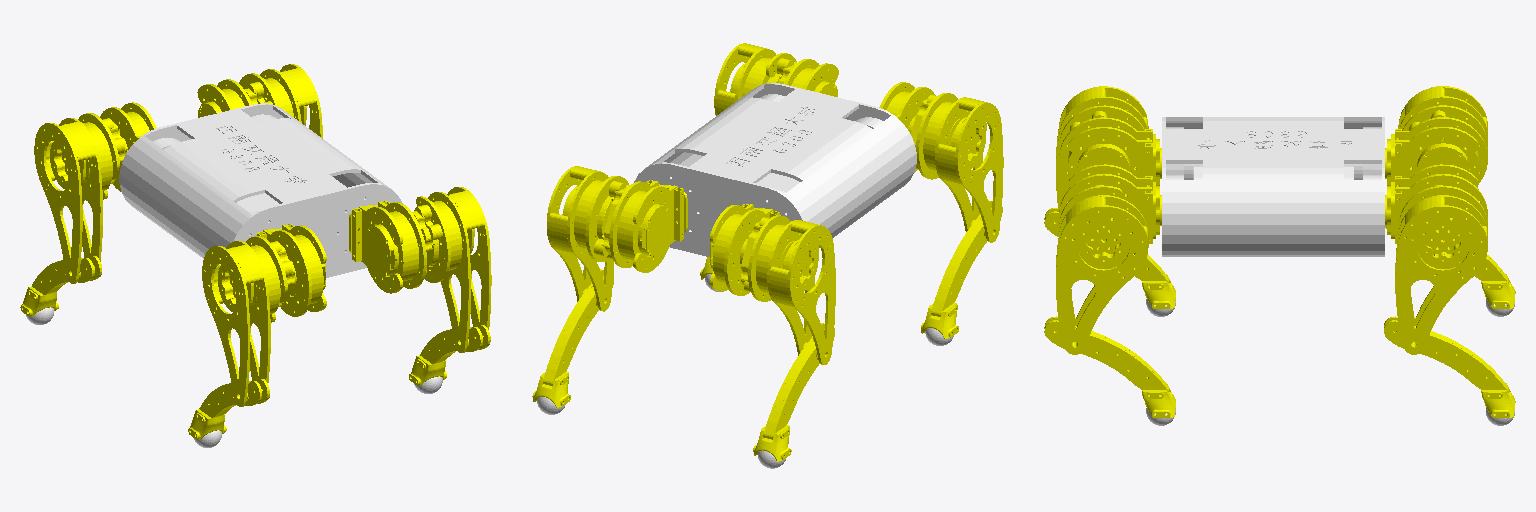
The robot description file, URDF, robot "g308_test3":
<?xml version="1.0" encoding="utf-8"?>
<!-- This URDF was automatically created by SolidWorks to URDF Exporter! Originally created by [author] ([email redacted]) 
     Commit Version: 1.6.0-4-g7f85cfe  Build Version: 1.6.7995.38578
     For more information, please see http://wiki.ros.org/sw_urdf_exporter -->
<robot
  name="g308_test3">
  <link
    name="base">
    <inertial>
      <origin
        xyz="-0.0461979664524284 -1.17681768195707E-05 0.0105492310143218"
        rpy="0 0 0" />
      <mass
        value="1.95581210125627" />
      <inertia
        ixx="0.0147778202660151"
        ixy="-1.05162781463542E-07"
        ixz="-1.09332218398292E-06"
        iyy="0.0125847623047929"
        iyz="1.48283341202769E-06"
        izz="0.0210875822494919" />
    </inertial>
    <visual>
      <origin
        xyz="0 0 0"
        rpy="0 0 0" />
      <geometry>
        <mesh
          filename="package://g308_test3/meshes/base.STL" />
      </geometry>
      <material
        name="">
        <color
          rgba="1 1 1 1" />
      </material>
    </visual>
    <collision>
      <origin
        xyz="0 0 0"
        rpy="0 0 0" />
      <geometry>
        <mesh
          filename="package://g308_test3/meshes/base.STL" />
      </geometry>
    </collision>
  </link>
  <link
    name="FL_hip">
    <inertial>
      <origin
        xyz="0.000645338589339253 0.000571806374731587 0.0692312452428767"
        rpy="0 0 0" />
      <mass
        value="0.318232651145697" />
      <inertia
        ixx="0.000371905213951895"
        ixy="8.54023233900234E-05"
        ixz="-2.30943444769928E-08"
        iyy="0.000273313681130012"
        iyz="1.65092610589608E-08"
        izz="0.000231734319828521" />
    </inertial>
    <visual>
      <origin
        xyz="0 0 0"
        rpy="0 0 0" />
      <geometry>
        <mesh
          filename="package://g308_test3/meshes/FL_hip.STL" />
      </geometry>
      <material
        name="">
        <color
          rgba="1 1 0 1" />
      </material>
    </visual>
    <collision>
      <origin
        xyz="0 0 0"
        rpy="0 0 0" />
      <geometry>
        <mesh
          filename="package://g308_test3/meshes/FL_hip.STL" />
      </geometry>
    </collision>
  </link>
  <joint
    name="FL_hip_joint"
    type="continuous">
    <origin
      xyz="-0.121206585889125 0.1475 0.012200615375217"
      rpy="1.5707963267949 0.523598775598297 -3.14159265358979" />
    <parent
      link="base" />
    <child
      link="FL_hip" />
    <axis
      xyz="0 0 1" />
    <limit
      lower="-3.14"
      upper="3.14"
      effort="20"
      velocity="10" />
  </joint>
  <link
    name="FL_thigh">
    <inertial>
      <origin
        xyz="-0.0122643937169565 -0.00575009686516084 -0.0438255043724123"
        rpy="0 0 0" />
      <mass
        value="0.50615450098718" />
      <inertia
        ixx="0.000325118667045125"
        ixy="-8.90254538876752E-05"
        ixz="-4.23242336848074E-09"
        iyy="0.000503708941101464"
        iyz="1.23318635161356E-08"
        izz="0.00080129336816092" />
    </inertial>
    <visual>
      <origin
        xyz="0 0 0"
        rpy="0 0 0" />
      <geometry>
        <mesh
          filename="package://g308_test3/meshes/FL_thigh.STL" />
      </geometry>
      <material
        name="">
        <color
          rgba="1 1 0 1" />
      </material>
    </visual>
    <collision>
      <origin
        xyz="0 0 0"
        rpy="0 0 0" />
      <geometry>
        <mesh
          filename="package://g308_test3/meshes/FL_thigh.STL" />
      </geometry>
    </collision>
  </link>
  <joint
    name="FL_thigh_joint"
    type="continuous">
    <origin
      xyz="0.0259057621135404 0.0151299038105593 0.0802000000000014"
      rpy="-1.5707963267949 -0.654498469497903 2.09439510239319" />
    <parent
      link="FL_hip" />
    <child
      link="FL_thigh" />
    <axis
      xyz="0 0 1" />
    <limit
      lower="-3.14"
      upper="3.14"
      effort="20"
      velocity="10" />
  </joint>
  <link
    name="FL_calf">
    <inertial>
      <origin
        xyz="0.0633313265646676 -0.0400200837453653 0.0140342754513096"
        rpy="0 0 0" />
      <mass
        value="0.101165794083911" />
      <inertia
        ixx="6.03690927040475E-05"
        ixy="7.94426080977234E-05"
        ixz="1.99930744368977E-10"
        iyy="0.000141463572684114"
        iyz="-1.30568603445521E-10"
        izz="0.000194608017998216" />
    </inertial>
    <visual>
      <origin
        xyz="0 0 0"
        rpy="0 0 0" />
      <geometry>
        <mesh
          filename="package://g308_test3/meshes/FL_calf.STL" />
      </geometry>
      <material
        name="">
        <color
          rgba="1 1 0 1" />
      </material>
    </visual>
    <collision>
      <origin
        xyz="0 0 0"
        rpy="0 0 0" />
      <geometry>
        <mesh
          filename="package://g308_test3/meshes/FL_calf.STL" />
      </geometry>
    </collision>
  </link>
  <joint
    name="FL_calf_joint"
    type="continuous">
    <origin
      xyz="-0.138581929876684 -0.0574025148547549 -0.0820000000000014"
      rpy="0 0 -0.916297857296994" />
    <parent
      link="FL_thigh" />
    <child
      link="FL_calf" />
    <axis
      xyz="0 0 1" />
    <limit
      lower="-3.14"
      upper="3.14"
      effort="20"
      velocity="10" />
  </joint>
  <link
    name="FL_foot">
    <inertial>
      <origin
        xyz="3.97575067312417E-09 -0.0001584054612353 1.23199644930239E-09"
        rpy="0 0 0" />
      <mass
        value="0.0324776231528866" />
      <inertia
        ixx="5.27515525323503E-06"
        ixy="1.11411299511892E-13"
        ixz="2.27169126250626E-12"
        iyy="5.19366816295094E-06"
        iyz="-1.25235730408225E-12"
        izz="5.22489160656527E-06" />
    </inertial>
    <visual>
      <origin
        xyz="0 0 0"
        rpy="0 0 0" />
      <geometry>
        <mesh
          filename="package://g308_test3/meshes/FL_foot.STL" />
      </geometry>
      <material
        name="">
        <color
          rgba="1 1 1 1" />
      </material>
    </visual>
    <collision>
      <origin
        xyz="0 0 0"
        rpy="0 0 0" />
      <geometry>
        <mesh
          filename="package://g308_test3/meshes/FL_foot.STL" />
      </geometry>
    </collision>
  </link>
  <joint
    name="FL_foot_joint"
    type="fixed">
    <origin
      xyz="0.115518487694803 -0.106314214351308 0.0141499999999999"
      rpy="-1.48600618207356 -1.56891663625823 1.5707963267944" />
    <parent
      link="FL_calf" />
    <child
      link="FL_foot" />
    <axis
      xyz="0 0 0" />
  </joint>
  <link
    name="RL_hip">
    <inertial>
      <origin
        xyz="0.000645338582855925 0.000571806385955699 0.0692312452422405"
        rpy="0 0 0" />
      <mass
        value="0.318232651145697" />
      <inertia
        ixx="0.000371905213951895"
        ixy="8.54023233900234E-05"
        ixz="-2.3094344476699E-08"
        iyy="0.000273313681130012"
        iyz="1.65092610591062E-08"
        izz="0.000231734319828521" />
    </inertial>
    <visual>
      <origin
        xyz="0 0 0"
        rpy="0 0 0" />
      <geometry>
        <mesh
          filename="package://g308_test3/meshes/RL_hip.STL" />
      </geometry>
      <material
        name="">
        <color
          rgba="1 1 0 1" />
      </material>
    </visual>
    <collision>
      <origin
        xyz="0 0 0"
        rpy="0 0 0" />
      <geometry>
        <mesh
          filename="package://g308_test3/meshes/RL_hip.STL" />
      </geometry>
    </collision>
  </link>
  <joint
    name="RL_hip_joint"
    type="continuous">
    <origin
      xyz="-0.121206585889128 -0.1475 0.012200615375218"
      rpy="-1.5707963267949 -0.523598775598297 3.14159265358979" />
    <parent
      link="base" />
    <child
      link="RL_hip" />
    <axis
      xyz="0 0 -1" />
    <limit
      lower="-3.14"
      upper="3.14"
      effort="20"
      velocity="10" />
  </joint>
  <link
    name="RL_thigh">
    <inertial>
      <origin
        xyz="-0.0122643929441131 -0.00575009671002186 -0.0438255043724107"
        rpy="0 0 0" />
      <mass
        value="0.50615450098718" />
      <inertia
        ixx="0.000325118667056995"
        ixy="-8.9025453883413E-05"
        ixz="-4.23239831283032E-09"
        iyy="0.000503708941089595"
        iyz="1.23318862716324E-08"
        izz="0.000801293368160921" />
    </inertial>
    <visual>
      <origin
        xyz="0 0 0"
        rpy="0 0 0" />
      <geometry>
        <mesh
          filename="package://g308_test3/meshes/RL_thigh.STL" />
      </geometry>
      <material
        name="">
        <color
          rgba="1 1 0 1" />
      </material>
    </visual>
    <collision>
      <origin
        xyz="0 0 0"
        rpy="0 0 0" />
      <geometry>
        <mesh
          filename="package://g308_test3/meshes/RL_thigh.STL" />
      </geometry>
    </collision>
  </link>
  <joint
    name="RL_thigh_joint"
    type="continuous">
    <origin
      xyz="0.0259057621135434 0.0151299038105513 0.0802000000000017"
      rpy="1.57079632679489 0.654498469497904 -1.0471975511966" />
    <parent
      link="RL_hip" />
    <child
      link="RL_thigh" />
    <axis
      xyz="0 0 1" />
    <limit
      lower="-3.14"
      upper="3.14"
      effort="20"
      velocity="10" />
  </joint>
  <link
    name="RL_calf">
    <inertial>
      <origin
        xyz="0.0633313265654134 -0.040020083743763 0.0130342754513093"
        rpy="0 0 0" />
      <mass
        value="0.101165794083911" />
      <inertia
        ixx="6.03690927040389E-05"
        ixy="7.94426080977188E-05"
        ixz="1.99930744155499E-10"
        iyy="0.000141463572684123"
        iyz="-1.30568603301694E-10"
        izz="0.000194608017998216" />
    </inertial>
    <visual>
      <origin
        xyz="0 0 0"
        rpy="0 0 0" />
      <geometry>
        <mesh
          filename="package://g308_test3/meshes/RL_calf.STL" />
      </geometry>
      <material
        name="">
        <color
          rgba="1 1 0 1" />
      </material>
    </visual>
    <collision>
      <origin
        xyz="0 0 0"
        rpy="0 0 0" />
      <geometry>
        <mesh
          filename="package://g308_test3/meshes/RL_calf.STL" />
      </geometry>
    </collision>
  </link>
  <joint
    name="RL_calf_joint"
    type="continuous">
    <origin
      xyz="-0.138581929876707 -0.0574025148547746 -0.0810000000000004"
      rpy="0 0 -0.916297857296993" />
    <parent
      link="RL_thigh" />
    <child
      link="RL_calf" />
    <axis
      xyz="0 0 -1" />
    <limit
      lower="-3.14"
      upper="3.14"
      effort="20"
      velocity="10" />
  </joint>
  <link
    name="RL_foot">
    <inertial>
      <origin
        xyz="3.97575047883514E-09 -0.00015840546010662 1.23310489597017E-09"
        rpy="0 0 0" />
      <mass
        value="0.0324776231528866" />
      <inertia
        ixx="5.27515525323503E-06"
        ixy="1.11411303662083E-13"
        ixz="2.27169126186566E-12"
        iyy="5.19366816295094E-06"
        iyz="-1.25235730245611E-12"
        izz="5.22489160656527E-06" />
    </inertial>
    <visual>
      <origin
        xyz="0 0 0"
        rpy="0 0 0" />
      <geometry>
        <mesh
          filename="package://g308_test3/meshes/RL_foot.STL" />
      </geometry>
      <material
        name="">
        <color
          rgba="1 1 1 1" />
      </material>
    </visual>
    <collision>
      <origin
        xyz="0 0 0"
        rpy="0 0 0" />
      <geometry>
        <mesh
          filename="package://g308_test3/meshes/RL_foot.STL" />
      </geometry>
    </collision>
  </link>
  <joint
    name="RL_foot_joint"
    type="fixed">
    <origin
      xyz="0.115518487694805 -0.106314214351309 0.0131499999999998"
      rpy="0 1.5707963267949 0" />
    <parent
      link="RL_calf" />
    <child
      link="RL_foot" />
    <axis
      xyz="0 0 0" />
  </joint>
  <link
    name="FR_hip">
    <inertial>
      <origin
        xyz="-0.000713181430966478 -0.00045429912609808 0.0692312452428759"
        rpy="0 0 0" />
      <mass
        value="0.318232651145697" />
      <inertia
        ixx="0.000371905213951894"
        ixy="8.54023233900235E-05"
        ixz="2.30943444769025E-08"
        iyy="0.000273313681130012"
        iyz="-1.6509261058809E-08"
        izz="0.000231734319828521" />
    </inertial>
    <visual>
      <origin
        xyz="0 0 0"
        rpy="0 0 0" />
      <geometry>
        <mesh
          filename="package://g308_test3/meshes/FR_hip.STL" />
      </geometry>
      <material
        name="">
        <color
          rgba="1 1 0 1" />
      </material>
    </visual>
    <collision>
      <origin
        xyz="0 0 0"
        rpy="0 0 0" />
      <geometry>
        <mesh
          filename="package://g308_test3/meshes/FR_hip.STL" />
      </geometry>
    </collision>
  </link>
  <joint
    name="FR_hip_joint"
    type="continuous">
    <origin
      xyz="0.0287934141108762 0.1475 0.0122006153752184"
      rpy="1.5707963267949 0.523598775598298 -3.14159265358979" />
    <parent
      link="base" />
    <child
      link="FR_hip" />
    <axis
      xyz="0 0 1" />
    <limit
      lower="-3.14"
      upper="3.14"
      effort="20"
      velocity="10" />
  </joint>
  <link
    name="FR_thigh">
    <inertial>
      <origin
        xyz="0.00462433769752282 -0.012694628670369 -0.0438255041269623"
        rpy="0 0 0" />
      <mass
        value="0.50615450098718" />
      <inertia
        ixx="0.000503448388620749"
        ixy="8.93042692045328E-05"
        ixz="4.2323748225123E-09"
        iyy="0.000325379219525839"
        iyz="-1.23318899879321E-08"
        izz="0.000801293368160919" />
    </inertial>
    <visual>
      <origin
        xyz="0 0 0"
        rpy="0 0 0" />
      <geometry>
        <mesh
          filename="package://g308_test3/meshes/FR_thigh.STL" />
      </geometry>
      <material
        name="">
        <color
          rgba="1 1 0 1" />
      </material>
    </visual>
    <collision>
      <origin
        xyz="0 0 0"
        rpy="0 0 0" />
      <geometry>
        <mesh
          filename="package://g308_test3/meshes/FR_thigh.STL" />
      </geometry>
    </collision>
  </link>
  <joint
    name="FR_thigh_joint"
    type="continuous">
    <origin
      xyz="-0.025980762113534 -0.0149999999999987 0.0801999999999967"
      rpy="-1.57079632679489 1.43989663289532 -1.04719755119659" />
    <parent
      link="FR_hip" />
    <child
      link="FR_thigh" />
    <axis
      xyz="0 0 1" />
    <limit
      lower="-3.14"
      upper="3.14"
      effort="20"
      velocity="10" />
  </joint>
  <link
    name="FR_calf">
    <inertial>
      <origin
        xyz="0.063331326564677 0.0400200837453495 -0.00403427545130952"
        rpy="0 0 0" />
      <mass
        value="0.10116579408391" />
      <inertia
        ixx="6.0369092704038E-05"
        ixy="-7.9442608097719E-05"
        ixz="-1.99930744103636E-10"
        iyy="0.000141463572684123"
        iyz="-1.30568603271664E-10"
        izz="0.000194608017998216" />
    </inertial>
    <visual>
      <origin
        xyz="0 0 0"
        rpy="0 0 0" />
      <geometry>
        <mesh
          filename="package://g308_test3/meshes/FR_calf.STL" />
      </geometry>
      <material
        name="">
        <color
          rgba="1 1 0 1" />
      </material>
    </visual>
    <collision>
      <origin
        xyz="0 0 0"
        rpy="0 0 0" />
      <geometry>
        <mesh
          filename="package://g308_test3/meshes/FR_calf.STL" />
      </geometry>
    </collision>
  </link>
  <joint
    name="FR_calf_joint"
    type="continuous">
    <origin
      xyz="0.0574025148547634 -0.1385819298767 -0.0639999999999969"
      rpy="0 0 -3.01069295969021" />
    <parent
      link="FR_thigh" />
    <child
      link="FR_calf" />
    <axis
      xyz="0 0 1" />
    <limit
      lower="-3.14"
      upper="3.14"
      effort="20"
      velocity="10" />
  </joint>
  <link
    name="FR_foot">
    <inertial>
      <origin
        xyz="3.97575034005726E-09 -0.000158405461235356 1.23199639379123E-09"
        rpy="0 0 0" />
      <mass
        value="0.0324776231528866" />
      <inertia
        ixx="5.27515525323503E-06"
        ixy="1.11411291052154E-13"
        ixz="2.27169126480951E-12"
        iyy="5.19366816295095E-06"
        iyz="-1.25235731003795E-12"
        izz="5.22489160656528E-06" />
    </inertial>
    <visual>
      <origin
        xyz="0 0 0"
        rpy="0 0 0" />
      <geometry>
        <mesh
          filename="package://g308_test3/meshes/FR_foot.STL" />
      </geometry>
      <material
        name="">
        <color
          rgba="1 1 1 1" />
      </material>
    </visual>
    <collision>
      <origin
        xyz="0 0 0"
        rpy="0 0 0" />
      <geometry>
        <mesh
          filename="package://g308_test3/meshes/FR_foot.STL" />
      </geometry>
    </collision>
  </link>
  <joint
    name="FR_foot_joint"
    type="fixed">
    <origin
      xyz="0.115518487694804 0.106314214351307 -0.00414999999999992"
      rpy="1.65558647151609 1.56891663625823 -1.57079632679454" />
    <parent
      link="FR_calf" />
    <child
      link="FR_foot" />
    <axis
      xyz="0 0 0" />
  </joint>
  <link
    name="RR_hip">
    <inertial>
      <origin
        xyz="-0.00084478279977334 -3.68438684702922E-05 0.064231245242878"
        rpy="0 0 0" />
      <mass
        value="0.318232651145697" />
      <inertia
        ixx="0.000421217912344398"
        ixy="9.77568411331706E-09"
        ixz="1.17456584712419E-08"
        iyy="0.000224000982737508"
        iyz="-2.58446117130837E-08"
        izz="0.000231734319828521" />
    </inertial>
    <visual>
      <origin
        xyz="0 0 0"
        rpy="0 0 0" />
      <geometry>
        <mesh
          filename="package://g308_test3/meshes/RR_hip.STL" />
      </geometry>
      <material
        name="">
        <color
          rgba="1 1 0 1" />
      </material>
    </visual>
    <collision>
      <origin
        xyz="0 0 0"
        rpy="0 0 0" />
      <geometry>
        <mesh
          filename="package://g308_test3/meshes/RR_hip.STL" />
      </geometry>
    </collision>
  </link>
  <joint
    name="RR_hip_joint"
    type="continuous">
    <origin
      xyz="0.028793 -0.1525 0.012201"
      rpy="-1.5708 0 3.1416" />
    <parent
      link="base" />
    <child
      link="RR_hip" />
    <axis
      xyz="0 0 -1" />
    <limit
      lower="-3.14"
      upper="3.14"
      effort="20"
      velocity="10" />
  </joint>
  <link
    name="RR_thigh">
    <inertial>
      <origin
        xyz="0.00573132719895955 -0.0132041690029469 -0.0438255041269507"
        rpy="0 0 0" />
      <mass
        value="0.50615450098718" />
      <inertia
        ixx="0.000503448388552977"
        ixy="8.93042689131321E-05"
        ixz="-4.23237656011606E-09"
        iyy="0.00032537921959361"
        iyz="1.2331894391849E-08"
        izz="0.000801293368160918" />
    </inertial>
    <visual>
      <origin
        xyz="0 0 0"
        rpy="0 0 0" />
      <geometry>
        <mesh
          filename="package://g308_test3/meshes/RR_thigh.STL" />
      </geometry>
      <material
        name="">
        <color
          rgba="1 1 0 1" />
      </material>
    </visual>
    <collision>
      <origin
        xyz="0 0 0"
        rpy="0 0 0" />
      <geometry>
        <mesh
          filename="package://g308_test3/meshes/RR_thigh.STL" />
      </geometry>
    </collision>
  </link>
  <joint
    name="RR_thigh_joint"
    type="continuous">
    <origin
      xyz="-0.03 0 0.0752"
      rpy="1.5708 -1.4399 1.5708" />
    <parent
      link="RR_hip" />
    <child
      link="RR_thigh" />
    <axis
      xyz="0 0 1" />
    <limit
      lower="-3.14"
      upper="3.14"
      effort="20"
      velocity="10" />
  </joint>
  <link
    name="RR_calf">
    <inertial>
      <origin
        xyz="0.0633313263817583 0.0400200807620098 0.0179657245486917"
        rpy="0 0 0" />
      <mass
        value="0.101165794083911" />
      <inertia
        ixx="6.03690927040393E-05"
        ixy="-7.94426080977182E-05"
        ixz="-1.99930744157339E-10"
        iyy="0.000141463572684124"
        iyz="-1.30568603324412E-10"
        izz="0.000194608017998218" />
    </inertial>
    <visual>
      <origin
        xyz="0 0 0"
        rpy="0 0 0" />
      <geometry>
        <mesh
          filename="package://g308_test3/meshes/RR_calf.STL" />
      </geometry>
      <material
        name="">
        <color
          rgba="1 1 0 1" />
      </material>
    </visual>
    <collision>
      <origin
        xyz="0 0 0"
        rpy="0 0 0" />
      <geometry>
        <mesh
          filename="package://g308_test3/meshes/RR_calf.STL" />
      </geometry>
    </collision>
  </link>
  <joint
    name="RR_calf_joint"
    type="continuous">
    <origin
      xyz="0.057403 -0.13858 -0.086"
      rpy="0 0 -3.0107" />
    <parent
      link="RR_thigh" />
    <child
      link="RR_calf" />
    <axis
      xyz="0 0 1" />
    <limit
      lower="-3.14"
      upper="3.14"
      effort="20"
      velocity="10" />
  </joint>
  <link
    name="RR_foot">
    <inertial>
      <origin
        xyz="3.97575702915098E-09 -0.000158405471271994 1.23174562216555E-09"
        rpy="0 0 0" />
      <mass
        value="0.0324776231528866" />
      <inertia
        ixx="5.27515525323502E-06"
        ixy="1.11411299838917E-13"
        ixz="2.27169126358221E-12"
        iyy="5.19366816295093E-06"
        iyz="-1.25235730271671E-12"
        izz="5.22489160656526E-06" />
    </inertial>
    <visual>
      <origin
        xyz="0 0 0"
        rpy="0 0 0" />
      <geometry>
        <mesh
          filename="package://g308_test3/meshes/RR_foot.STL" />
      </geometry>
      <material
        name="">
        <color
          rgba="1 1 1 1" />
      </material>
    </visual>
    <collision>
      <origin
        xyz="0 0 0"
        rpy="0 0 0" />
      <geometry>
        <mesh
          filename="package://g308_test3/meshes/RR_foot.STL" />
      </geometry>
    </collision>
  </link>
  <joint
    name="RR_foot_joint"
    type="fixed">
    <origin
      xyz="0.11552 0.10631 0.01785"
      rpy="0 1.5708 3.14159" />
    <parent
      link="RR_calf" />
    <child
      link="RR_foot" />
    <axis
      xyz="0 0 0" />
  </joint>
</robot>

--- Facts derived from the render (not from the file) ---
Views: 3 orthographic renders of the robot side by side, from view 1: azimuth 30°, elevation 25°; view 2: azimuth 150°, elevation 25°; view 3: azimuth 270°, elevation 25°.
Robot: g308_test3 — 17 links, 16 joints (12 continuous, 4 fixed); root link base; default pose: every joint at zero.
Links seen in each view (by area): view 1: base, RL_thigh, FL_thigh, RR_thigh, RR_hip, RL_hip, FR_thigh, RL_calf, RR_calf, FL_calf, FR_hip, FL_hip; view 2: base, FL_thigh, RL_thigh, FR_thigh, FR_hip, FL_hip, RR_thigh, FL_calf, FR_calf, RL_calf, RR_hip, RL_hip; view 3: base, FR_thigh, RR_thigh, FL_hip, RL_hip, FR_calf, RR_calf, RL_thigh, RR_hip, FL_thigh, FR_hip, RL_calf (+1 smaller).
Boxes of the visible links, box(x1,y1,x2,y2) form: base: box(119, 103, 402, 277); RL_thigh: box(202, 236, 295, 406); FL_thigh: box(34, 113, 127, 283); RR_thigh: box(412, 187, 491, 352); RR_hip: box(349, 201, 426, 293); RL_hip: box(256, 224, 326, 316); FR_thigh: box(239, 64, 322, 138); RL_calf: box(188, 379, 269, 439); RR_calf: box(409, 325, 490, 385); FL_calf: box(20, 256, 101, 316); FR_hip: box(197, 79, 251, 117); FL_hip: box(100, 102, 156, 191); base: box(634, 83, 916, 256); FL_thigh: box(741, 215, 835, 364); RL_thigh: box(911, 93, 1003, 242); FR_thigh: box(547, 166, 629, 311); FR_hip: box(609, 180, 687, 272); FL_hip: box(710, 204, 779, 295); RR_thigh: box(714, 43, 796, 115); FL_calf: box(753, 323, 834, 461); FR_calf: box(532, 269, 613, 407); RL_calf: box(921, 200, 1002, 338); RR_hip: box(784, 59, 838, 96); RL_hip: box(879, 82, 935, 171); base: box(1162, 117, 1384, 256); FR_thigh: box(1395, 185, 1487, 354); RR_thigh: box(1056, 185, 1148, 354); FL_hip: box(1385, 117, 1487, 189); RL_hip: box(1059, 117, 1161, 188); FR_calf: box(1384, 316, 1515, 417); RR_calf: box(1044, 316, 1175, 417); RL_thigh: box(1056, 86, 1148, 209); RR_hip: box(1059, 164, 1161, 243); FL_thigh: box(1398, 86, 1487, 151); FR_hip: box(1385, 164, 1487, 243); RL_calf: box(1044, 208, 1175, 308).
Bounding box of the posed robot: 0.392 × 0.632 × 0.3339 m (x, y, z).
Meshes: 17 distinct files referenced, 17 mesh visuals loaded (17 binary STL).
